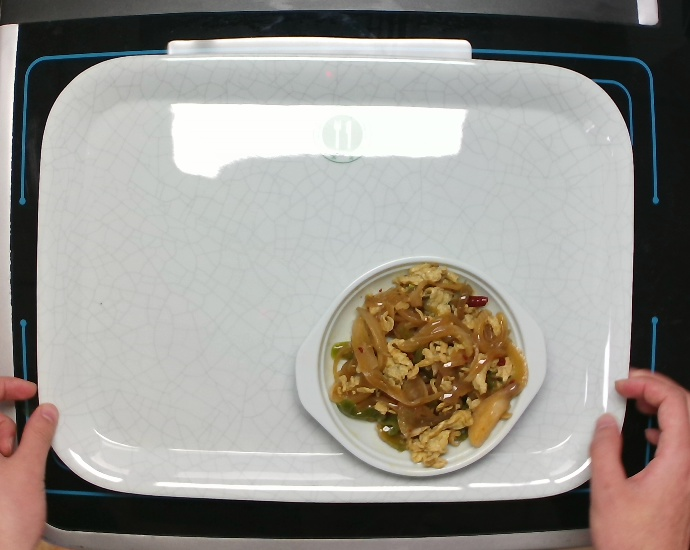JYsf-Shuang_Er_Pan: (295, 256, 544, 481)
